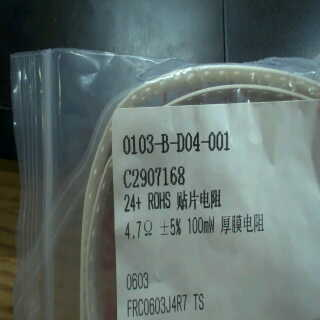4.7R: (122, 215, 156, 244)
